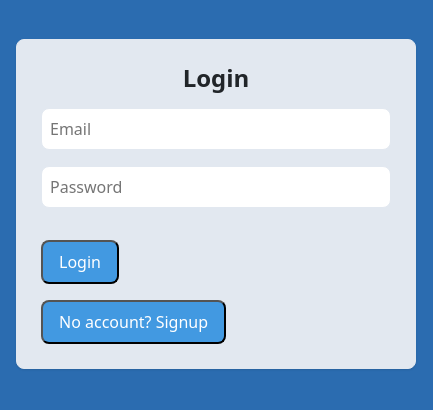
<Login /> › displays error for invalid credentials
The width and height of the screenshot is (433, 410).
In the field with placeholder "Email": (216, 129) [41, 108, 391, 150], type "test@test.com"
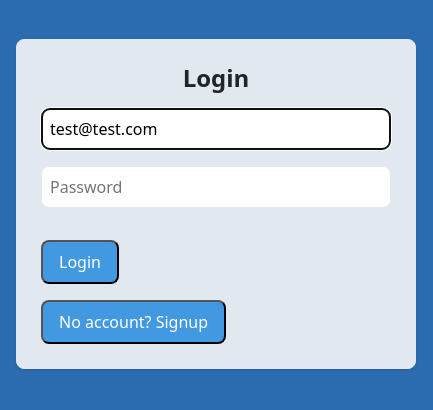
In the password field with placeholder "Password": (216, 187) [41, 166, 391, 208], type "123"
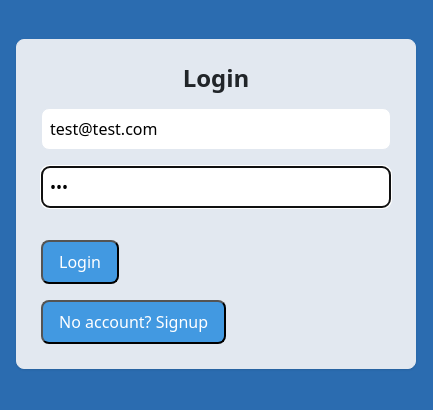
Click the button "Login": (80, 262) [41, 240, 119, 284]
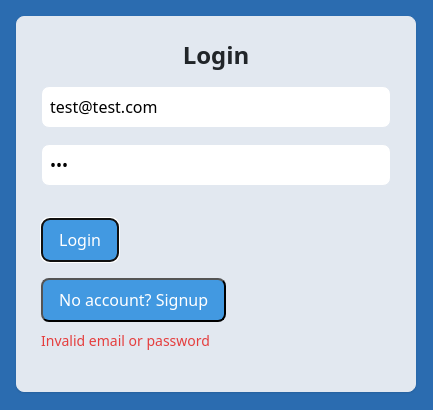
Check: the text "Invalid email or password" is shown, box [41, 331, 210, 350]
